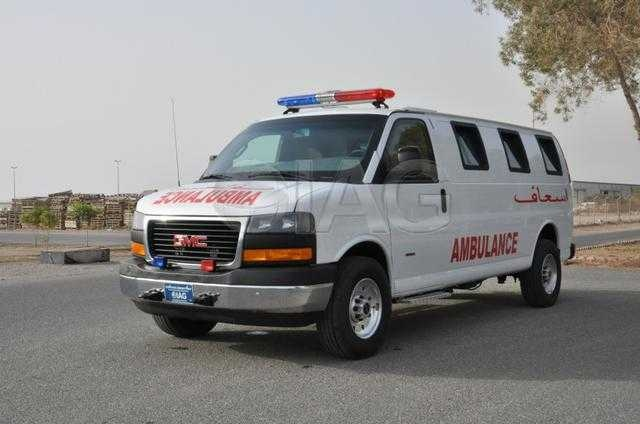Ambulance: (114, 84, 612, 337)
